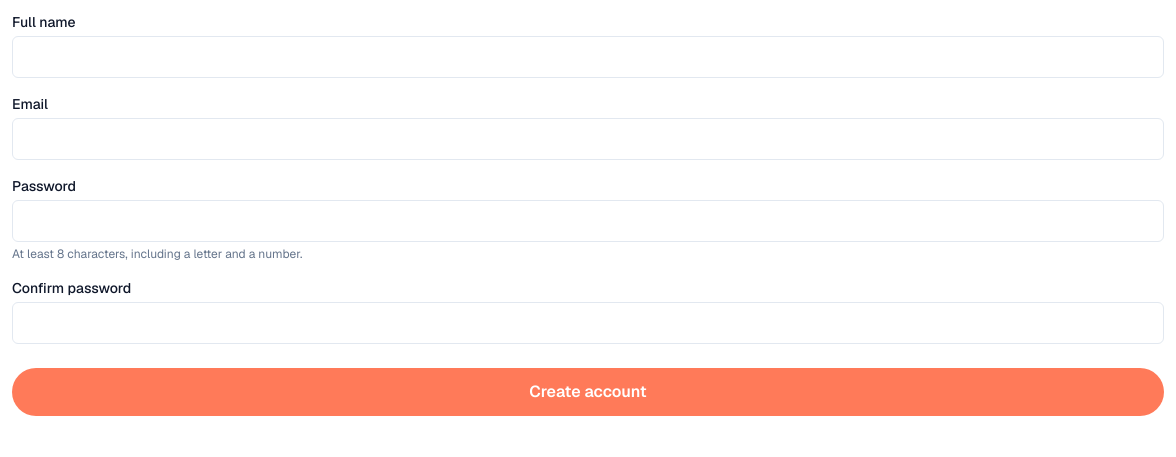
Test: RegisterForm › renders_inline_error_under_password_when_action_returns_password_error
Click the button "Create account" at {"x": 588, "y": 392}, box [12,368,1164,416]
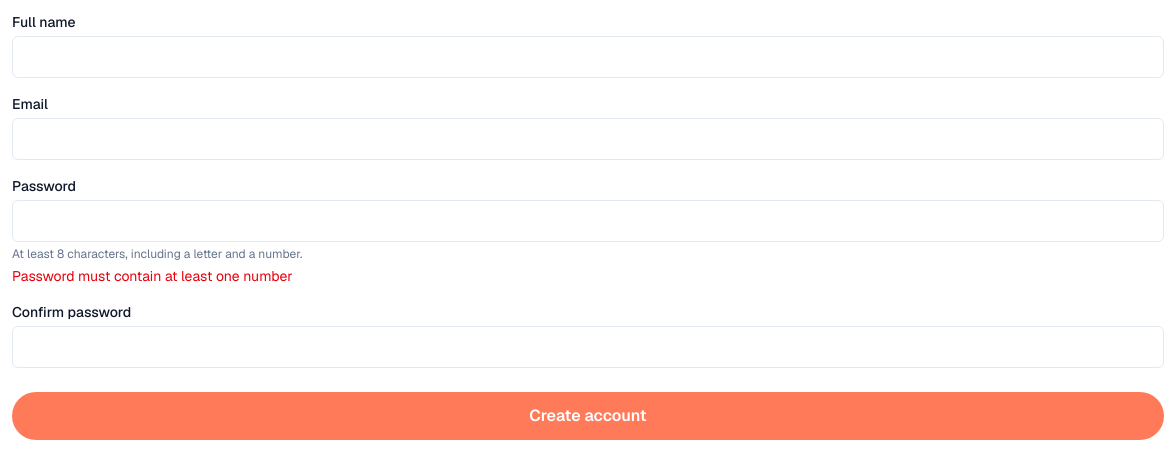
Expected: the text "Password must contain at least one number" is shown, [12,267,292,285]
